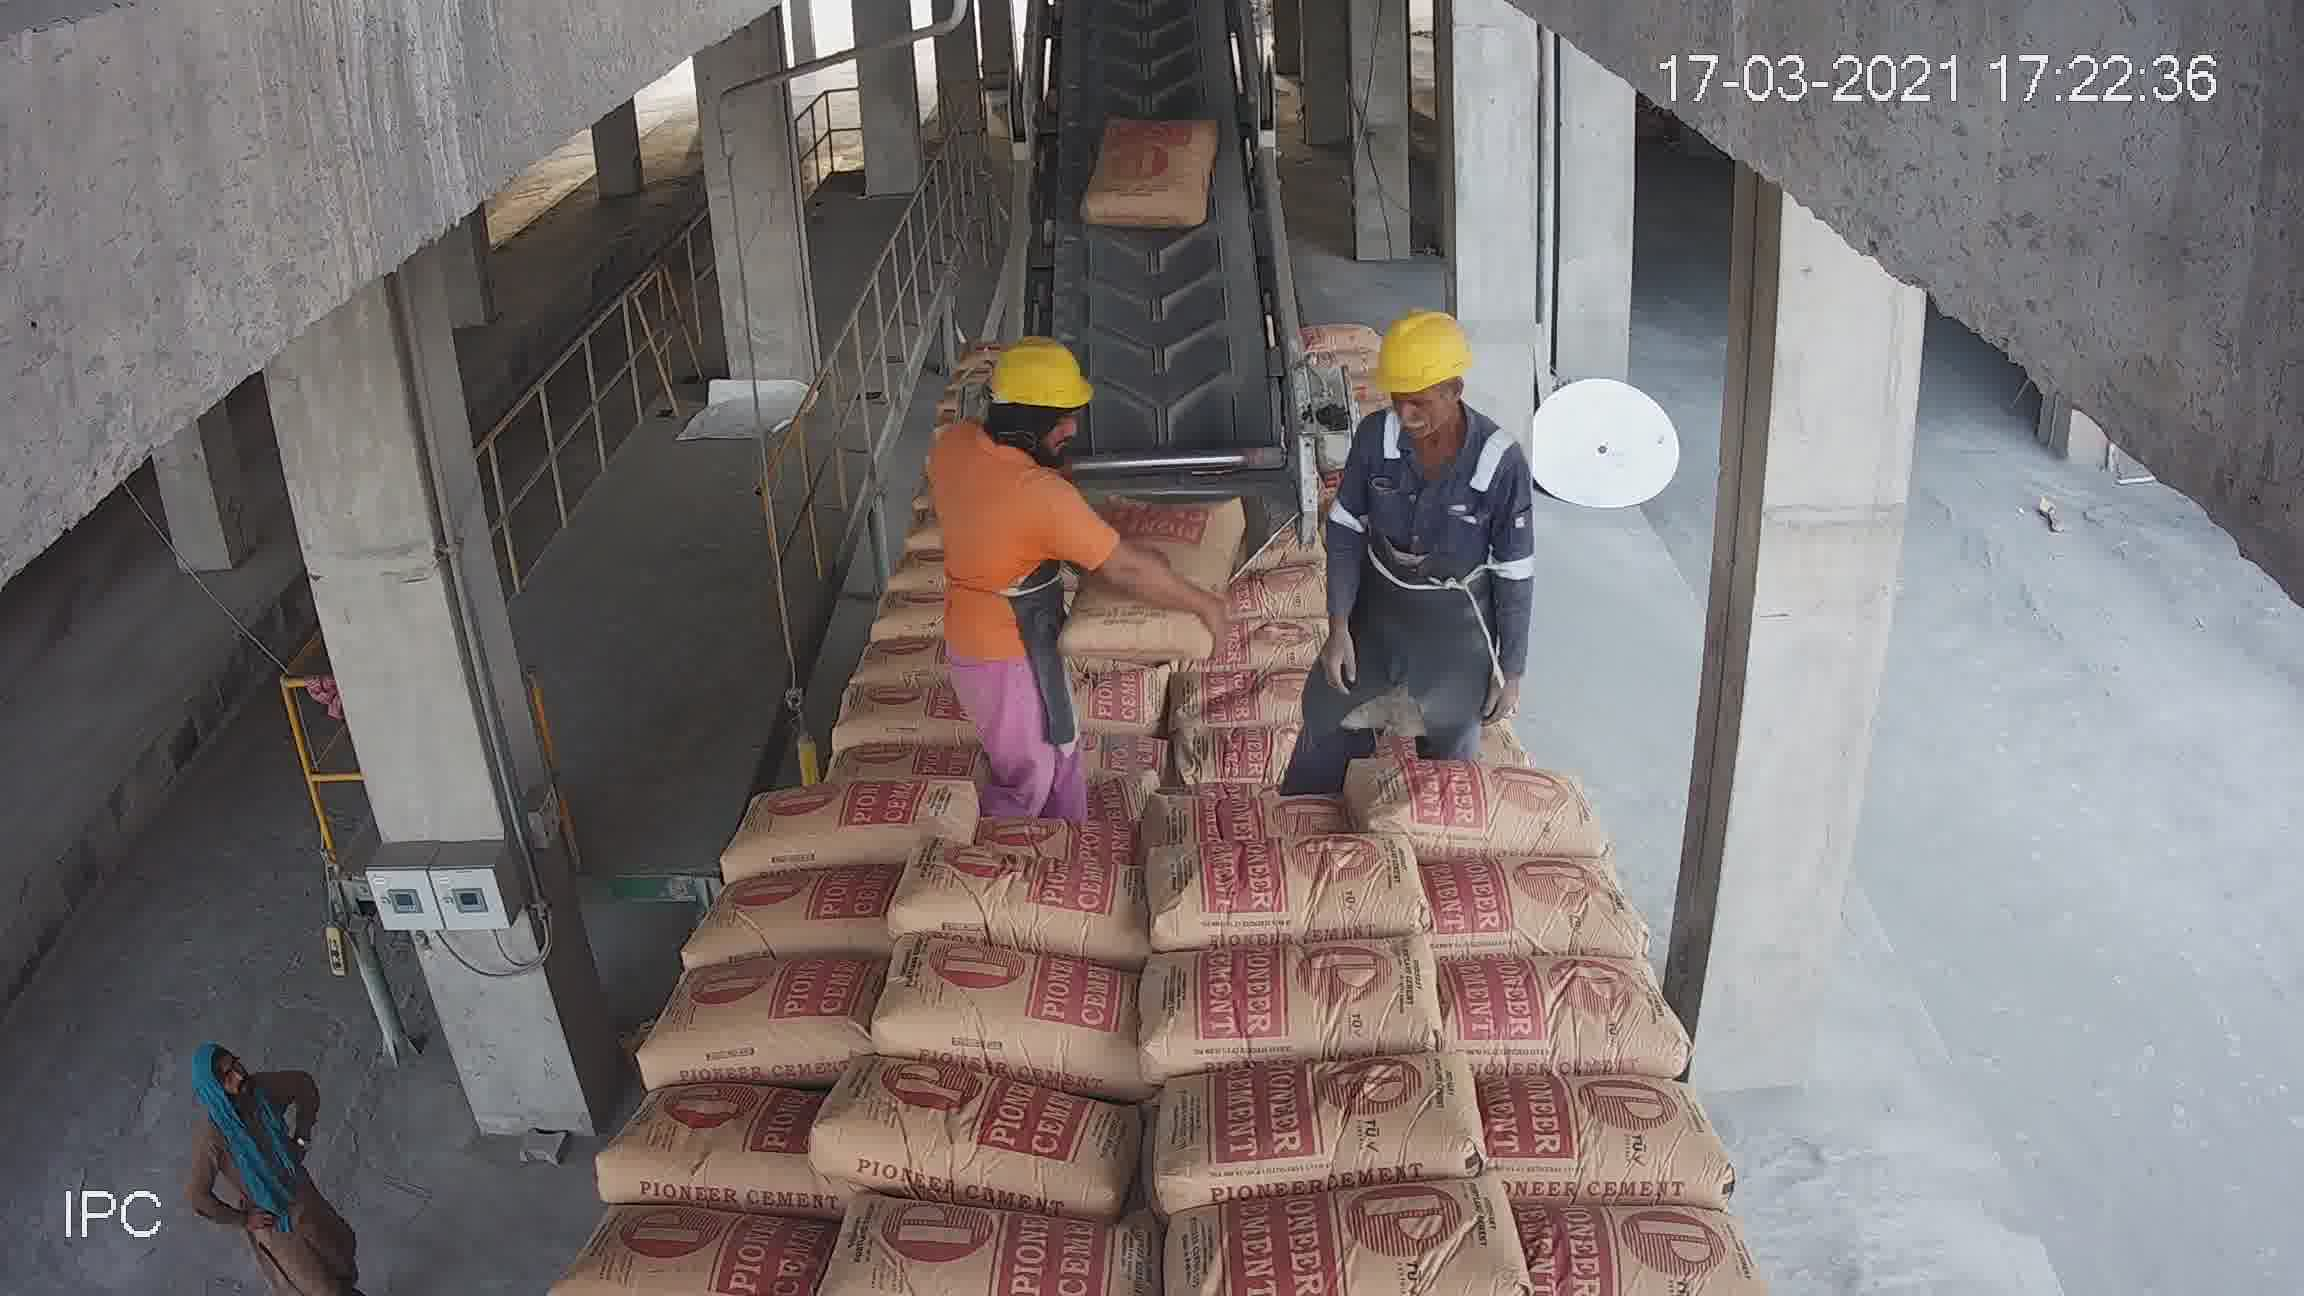bag: (1025, 443, 1231, 589), (1092, 100, 1209, 215)
bag_h: (1124, 1025, 1492, 1233), (1111, 905, 1434, 1097), (1146, 1161, 1513, 1296), (1143, 809, 1449, 946), (1119, 631, 1385, 783), (1413, 942, 1688, 1082), (649, 954, 897, 1097), (866, 937, 1122, 1070), (810, 1097, 1150, 1196), (1133, 742, 1394, 862), (562, 1180, 845, 1291), (1491, 1071, 1720, 1201), (788, 1215, 1146, 1296), (1426, 855, 1635, 983), (1506, 1177, 1730, 1296), (873, 848, 1135, 949), (603, 1082, 813, 1203), (1396, 755, 1586, 872), (913, 766, 1131, 855), (692, 870, 889, 967), (726, 785, 904, 878), (945, 671, 1131, 755), (744, 704, 915, 788), (1405, 677, 1546, 756)
belt: (1025, 36, 1271, 573)
